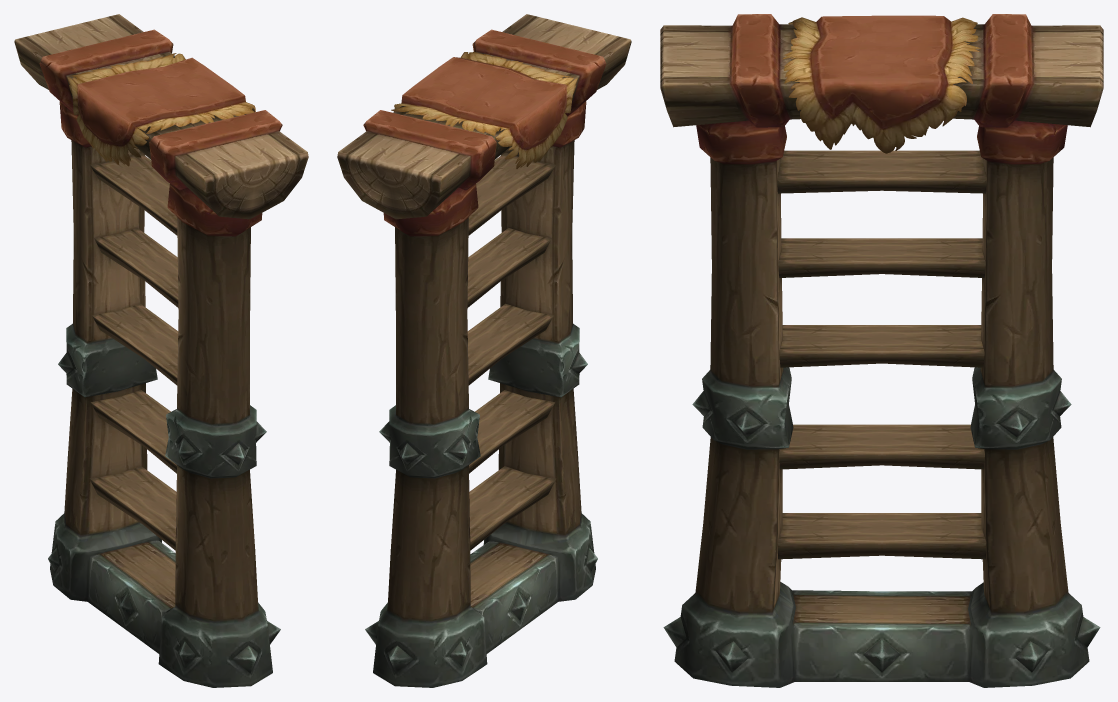
3 views of the same model, side by side, from view 1: azimuth 30°, elevation 25°; view 2: azimuth 150°, elevation 25°; view 3: azimuth 270°, elevation 25° (orthographic). The views are drawn at different scales.
Size of the model in its own units: 1.37 by 5.76 by 3.74.
Materials: 2 (2 with a texture image).
